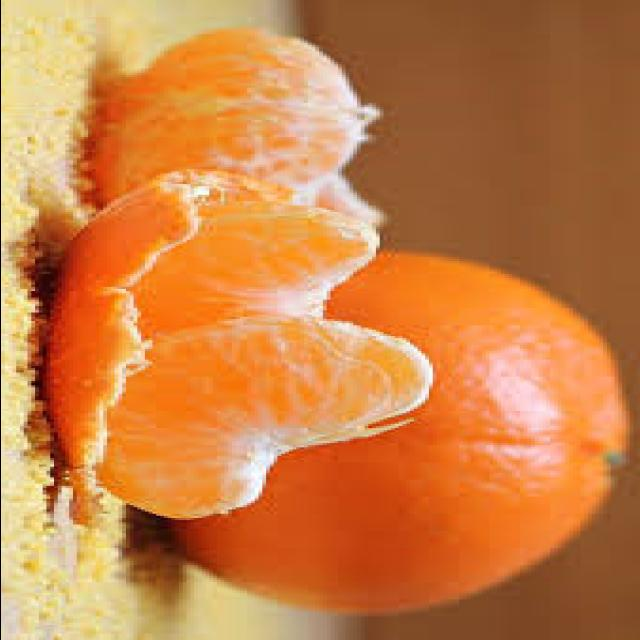orange: (168, 253, 626, 609)
